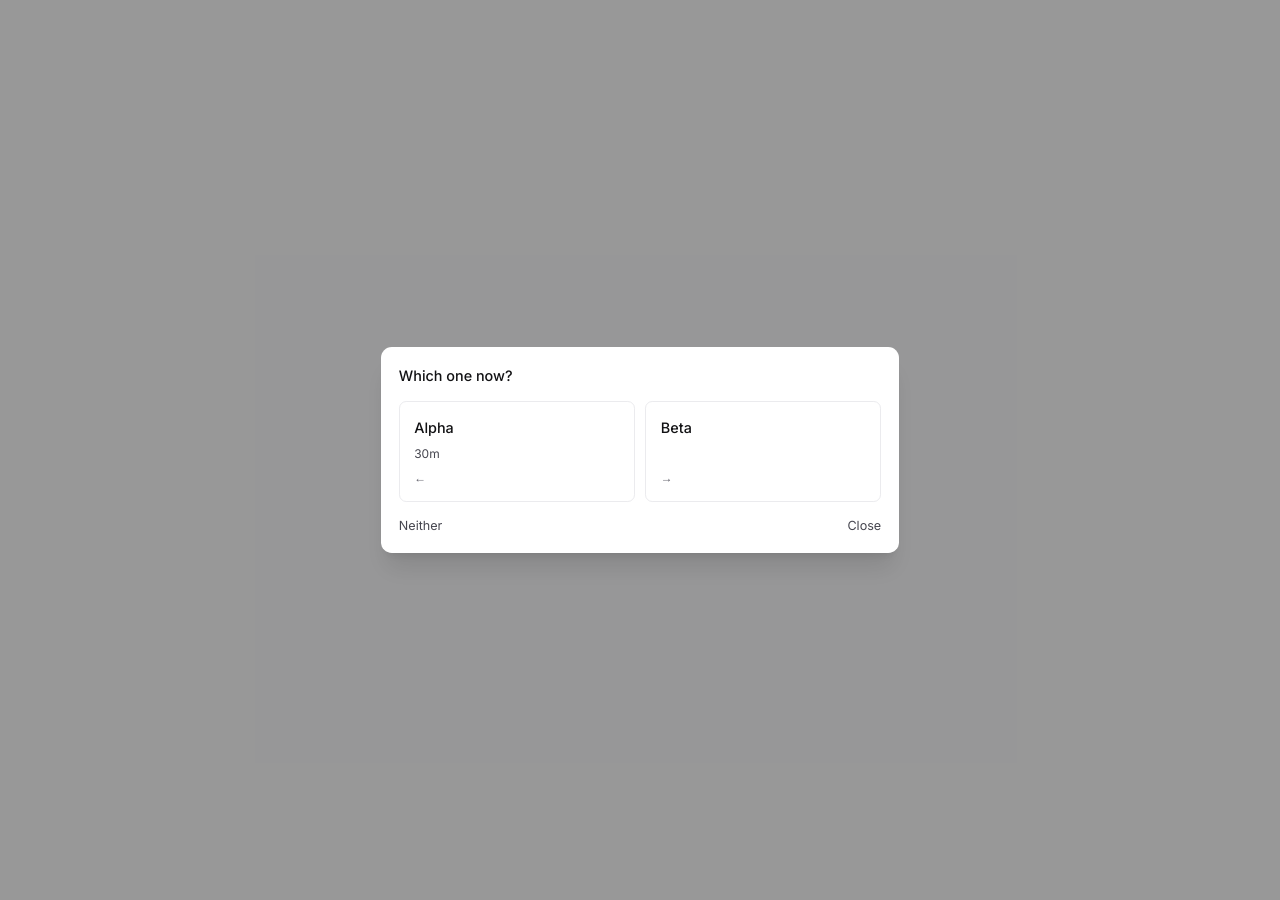
ThisOrThat › keeps the pick against the next one until one is left
The image size is (1280, 900).
Later steps or results of the test are not shown.
Expected: the text "30m" is shown, [414, 446, 440, 462]
What coordinates should you click on to do the following:
click the text "Beta"
I would click on:
 (676, 428)
Its box is [661, 417, 692, 438].
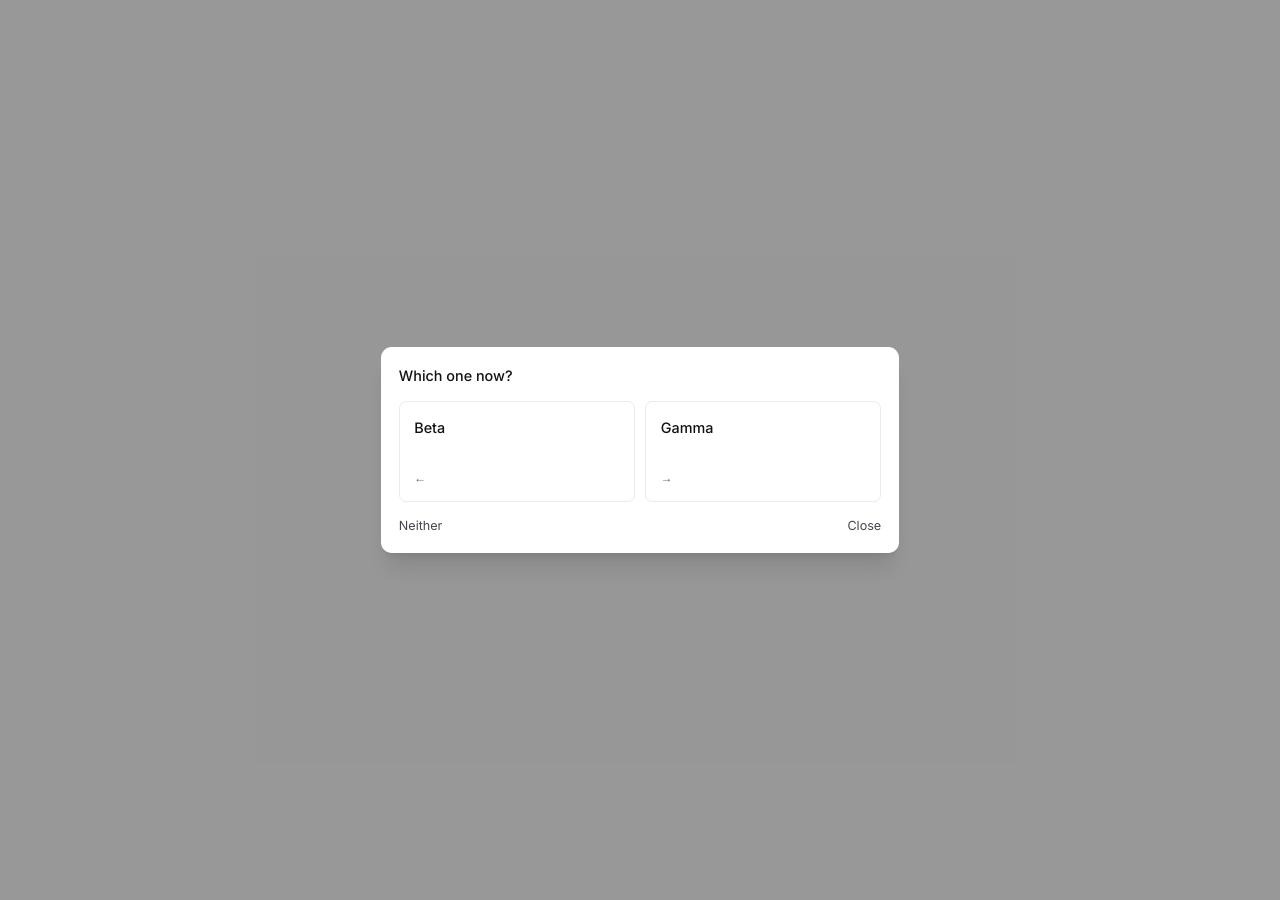
Expected: the text "Beta" is shown
Expected: the text "Gamma" is shown, [661, 417, 714, 438]
What coordinates should you click on to do the following:
click the text "Beta"
I would click on:
 (430, 428)
Its box is [414, 417, 445, 438].
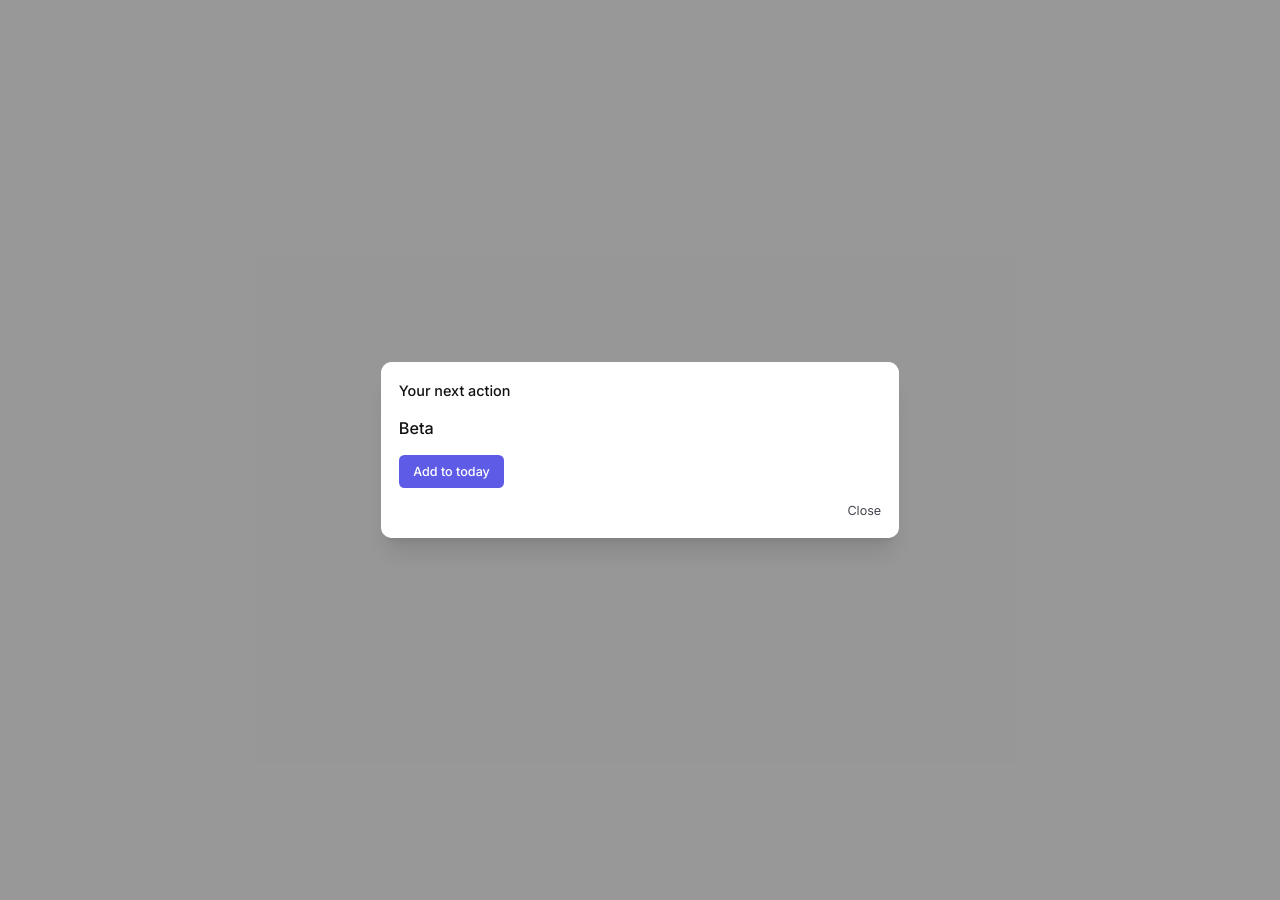
Expected: the heading "Your next action" is shown, [399, 382, 510, 399]
